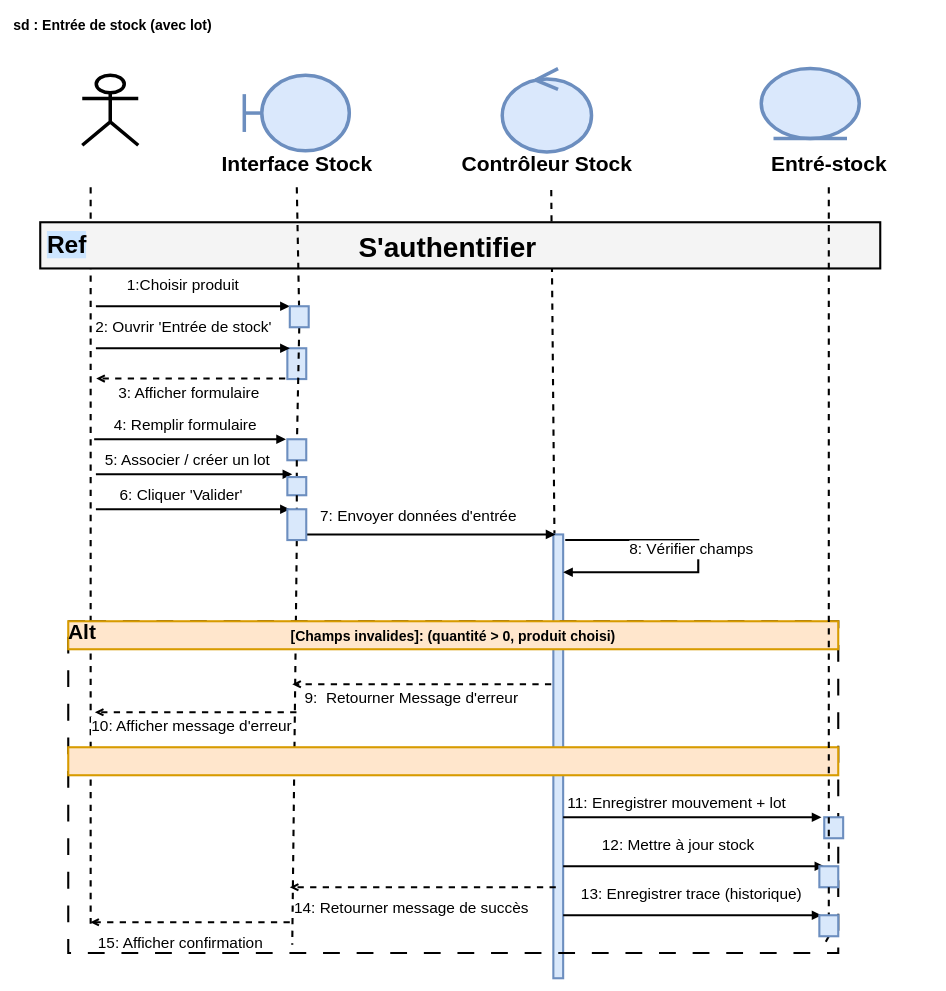
The diagram is 946 pixels wide and 991 high, and some of its shapes have lost their labels. Here are the shapes that lost their labels. From the top down, the centre of each, then its label:
At [110,110]: "Magasinier".
At [453,761]: "[Succès]".
